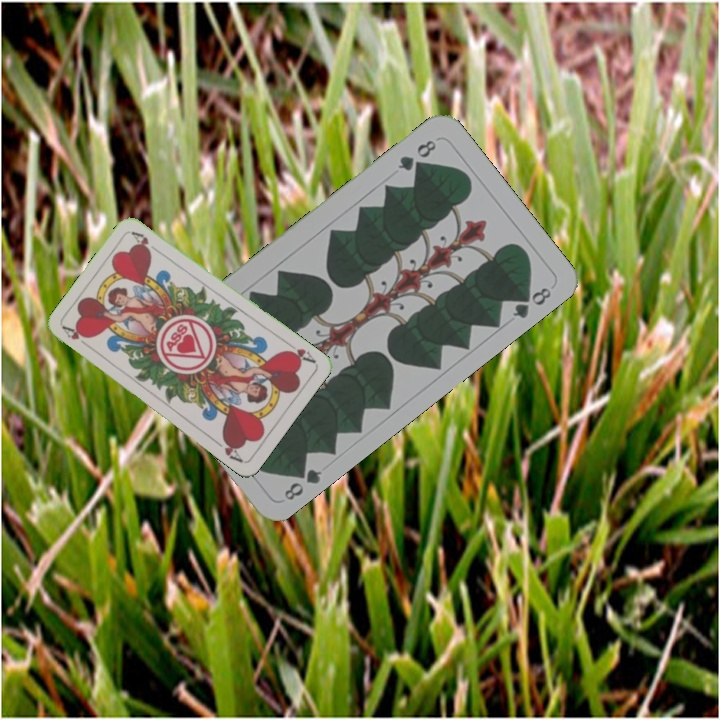G8: (280, 460, 324, 503), (393, 135, 439, 174)
HA: (59, 322, 94, 352), (282, 338, 318, 366)
